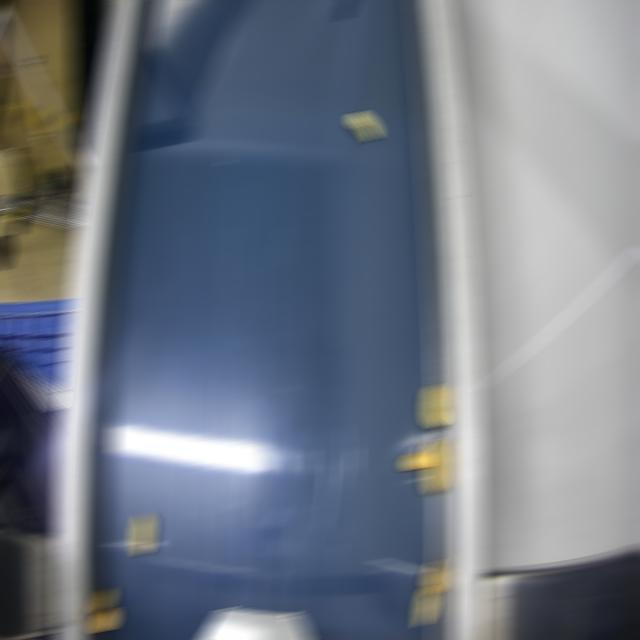Baby Potato: (423, 440, 444, 494), (424, 384, 445, 427), (349, 112, 378, 140), (133, 513, 152, 555), (424, 559, 443, 594), (417, 586, 434, 625), (92, 608, 117, 631), (403, 452, 430, 470), (92, 589, 113, 611)
